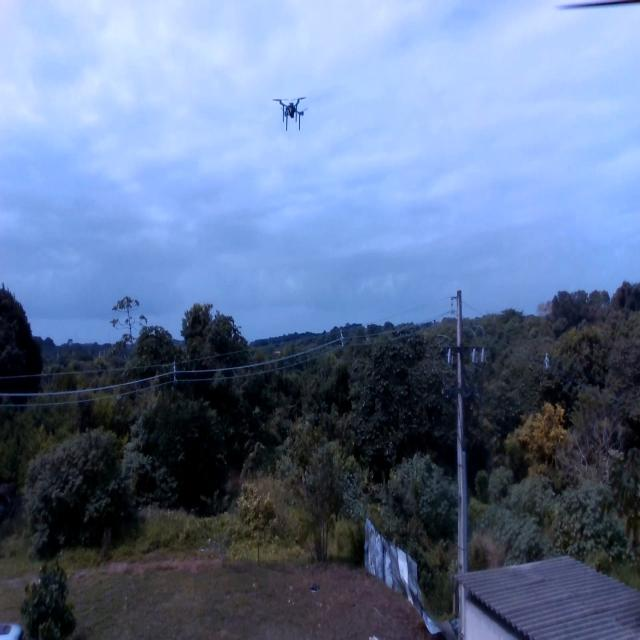-uav-: (272, 81, 310, 138)
